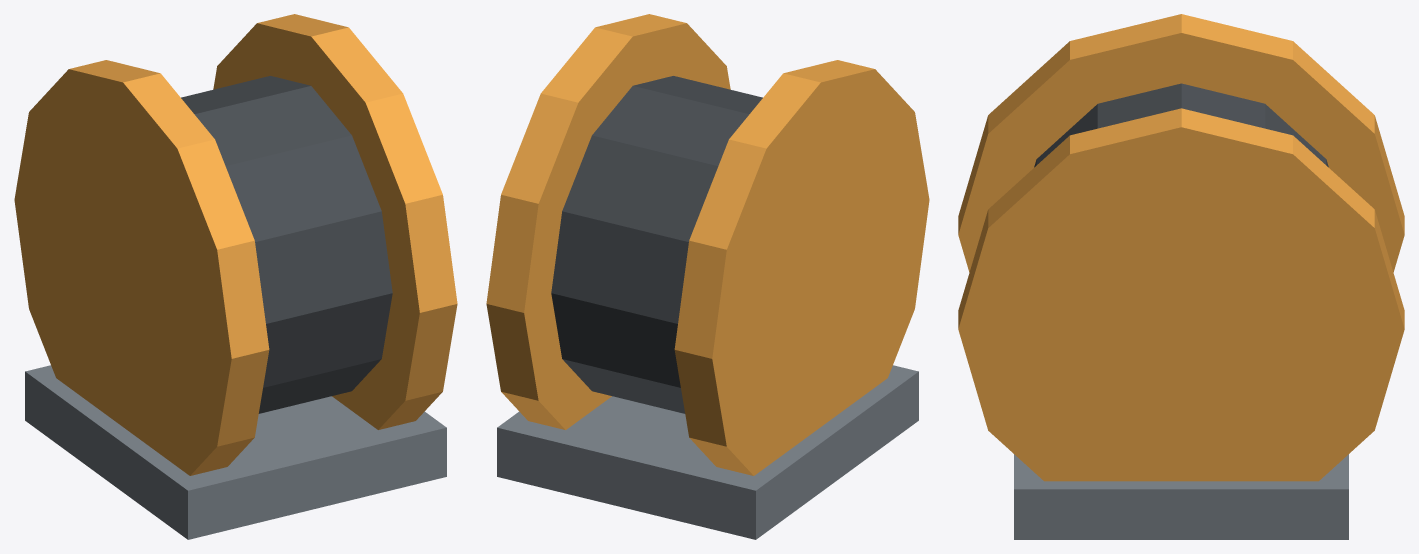
File: mech-hangar-and-battle-frames-cable-reel-39bdedef__26967.glb
3 renders of one model, left to right at view 1: azimuth 30°, elevation 25°; view 2: azimuth 150°, elevation 25°; view 3: azimuth 270°, elevation 25°, orthographic. The views are drawn at different scales.
Visible parts, largest first — view 1: cable-reel; view 2: cable-reel; view 3: cable-reel.
Part boxes in pixels (box(x1,y1,x2,y2)): cable-reel: box(14, 14, 457, 539); cable-reel: box(486, 14, 929, 539); cable-reel: box(958, 14, 1404, 539).
Size of the model in its own units: 0.55 by 0.8 by 0.8.
